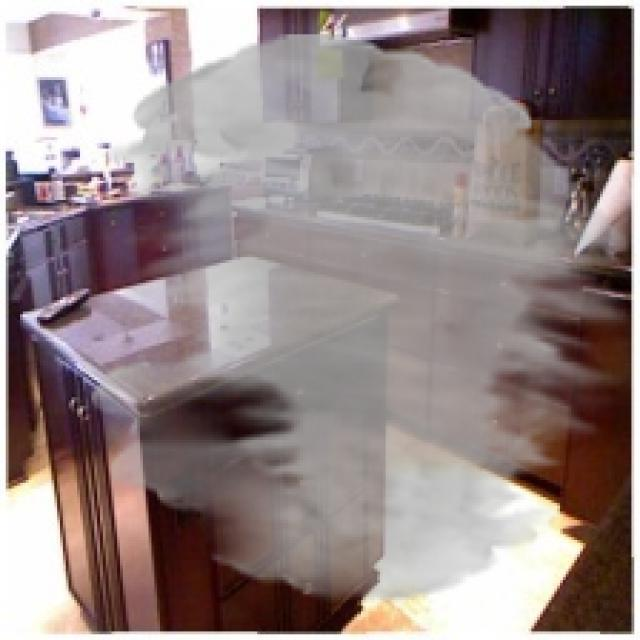Smoke: (91, 34, 632, 603)
